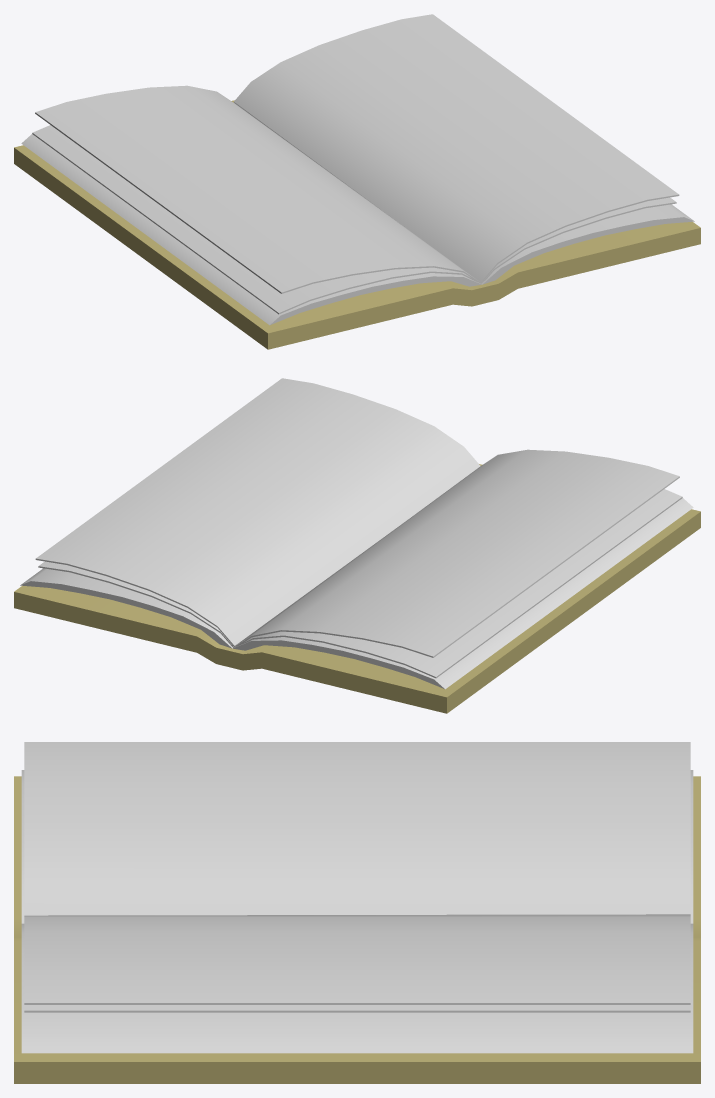
File: Book.fbx
3 views of the same model, one above another, from view 1: azimuth 30°, elevation 25°; view 2: azimuth 150°, elevation 25°; view 3: azimuth 270°, elevation 25° (orthographic). The views are drawn at different scales.
Parts seen in each view (by area): view 1: pCube4, pCube3, polySurface1, pCube2, polySurface2, polySurface3, pCube5; view 2: pCube4, pCube3, polySurface1, pCube2, polySurface2, polySurface3, pCube5; view 3: pCube3, pCube4, polySurface3, polySurface1, pCube5, polySurface2.
Boxes of the visible parts, x1,y1,x2,y2 form: pCube4: (234, 14, 679, 283); pCube3: (35, 85, 480, 293); polySurface1: (14, 100, 700, 349); pCube2: (32, 125, 479, 314); polySurface2: (21, 134, 481, 325); polySurface3: (482, 204, 694, 284); pCube5: (481, 197, 676, 283); pCube4: (35, 378, 480, 646); pCube3: (235, 449, 679, 657); polySurface1: (14, 464, 700, 713); pCube2: (237, 489, 682, 678); polySurface2: (233, 498, 693, 689); polySurface3: (20, 568, 232, 648); pCube5: (38, 561, 234, 647); pCube3: (24, 742, 690, 915); pCube4: (24, 914, 690, 1004); polySurface3: (21, 923, 693, 1053); polySurface1: (14, 776, 700, 1083); pCube5: (24, 1005, 690, 1012); polySurface2: (21, 770, 693, 923).
Bounding box in the file's own units: 6.52 × 0.8676 × 6.63.
